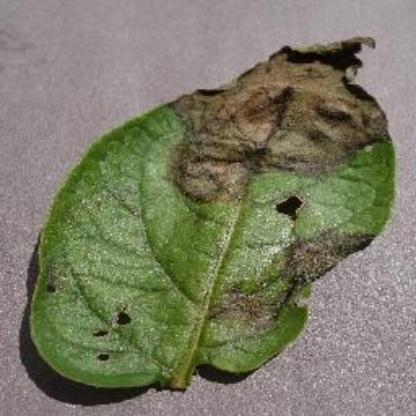Late-Blight: (21, 24, 414, 380)
